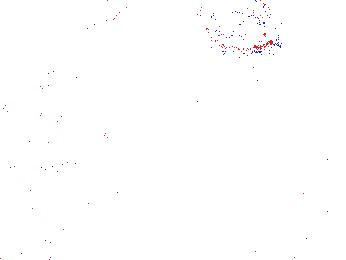moon jellyfish: (131, 19, 223, 125), (9, 86, 85, 166), (103, 1, 195, 58), (195, 1, 279, 52), (54, 13, 105, 83)
